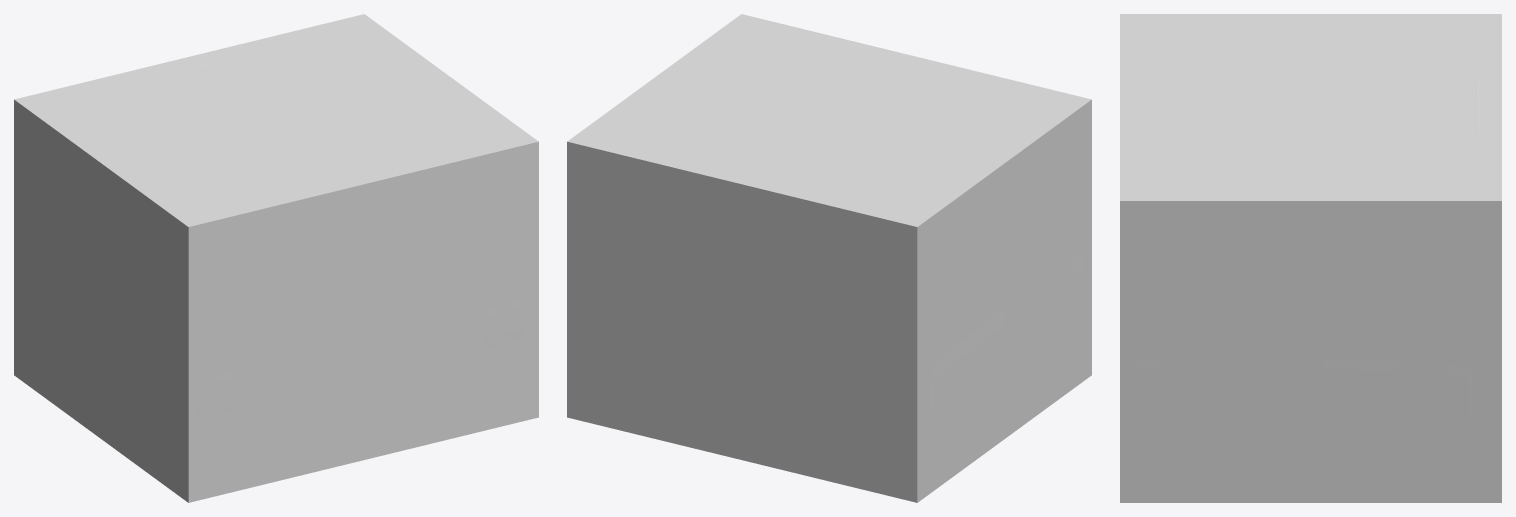
Rendered from leather_armchair_a.glb.
3 renders of one model, left to right at view 1: azimuth 30°, elevation 25°; view 2: azimuth 150°, elevation 25°; view 3: azimuth 270°, elevation 25°, orthographic. The views are drawn at different scales.
Visible parts, largest first — view 1: SofaLeather_0003_COL, SofaLeather_0003; view 2: SofaLeather_0003_COL, SofaLeather_0003; view 3: SofaLeather_0003_COL, SofaLeather_0003.
Boxes of the visible parts, x1,y1,x2,y2 form: SofaLeather_0003_COL: (14, 14, 538, 502); SofaLeather_0003: (28, 265, 530, 418); SofaLeather_0003_COL: (567, 14, 1091, 502); SofaLeather_0003: (931, 253, 1084, 411); SofaLeather_0003_COL: (1120, 14, 1501, 502); SofaLeather_0003: (1133, 355, 1471, 414).
Size of what is drawn, in the model's own units: 1.11 by 0.8364 by 0.9586.
2 materials, 2 textured.
